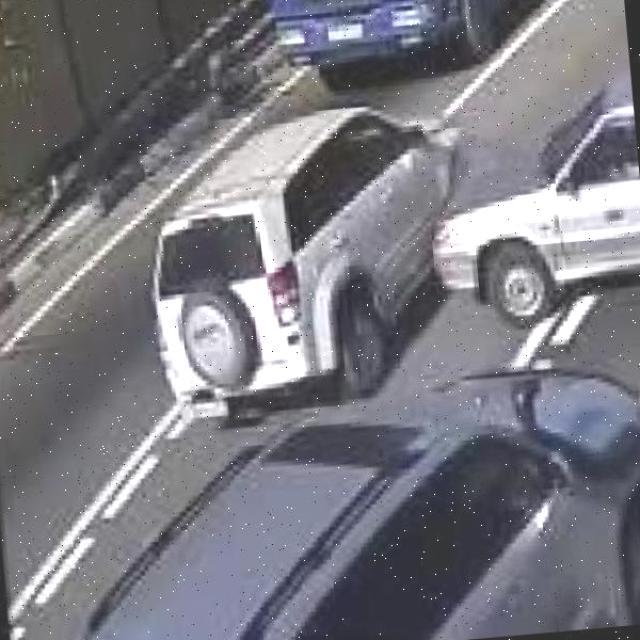accident: (142, 81, 640, 425)
